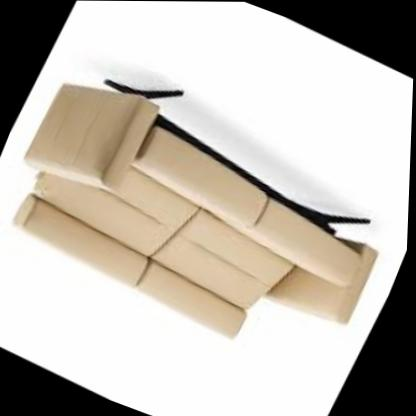Sofa: (0, 15, 416, 414)
